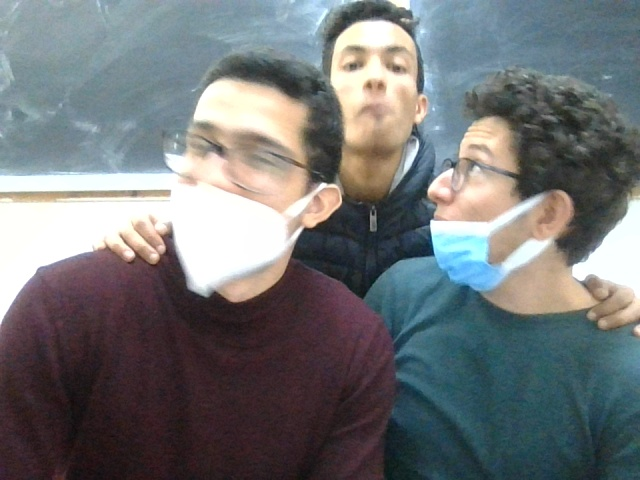mask_weared_incorrect: (426, 60, 620, 289)
